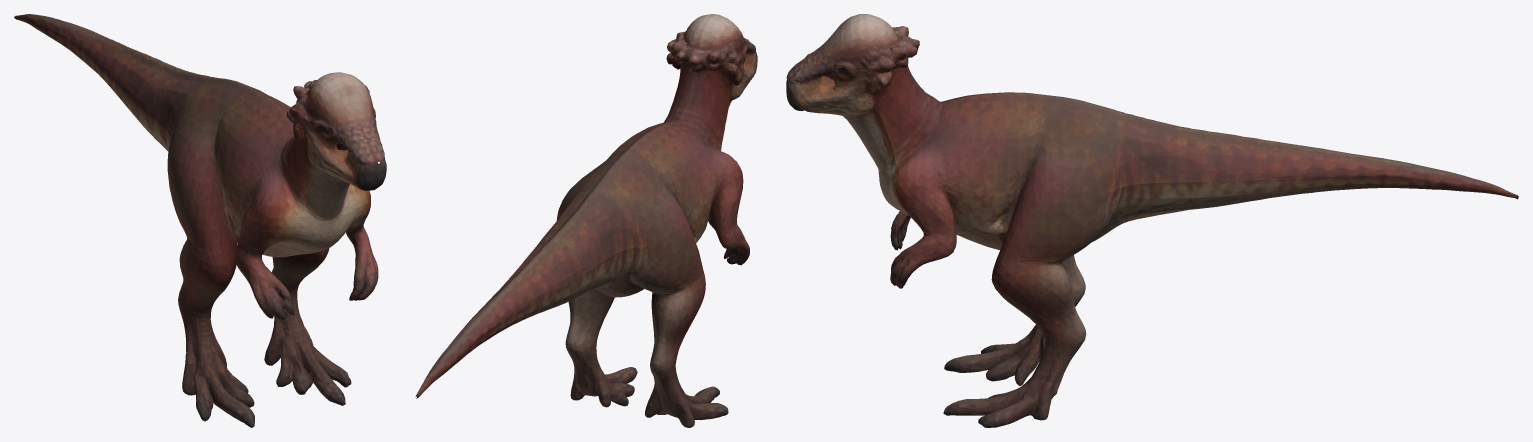
3 views of the same model, side by side, from view 1: azimuth 30°, elevation 25°; view 2: azimuth 150°, elevation 25°; view 3: azimuth 270°, elevation 25° (orthographic). The views are drawn at different scales.
Parts seen in each view (by area): view 1: world; view 2: world; view 3: world.
Boxes of the visible parts, x1=… form: world: x1=14, y1=14, x2=386, y2=427; world: x1=415, y1=14, x2=757, y2=427; world: x1=786, y1=14, x2=1518, y2=427.
Size of the model in its own units: 1.09 by 2.56 by 4.5.
Materials: 1 (1 with a texture image).
